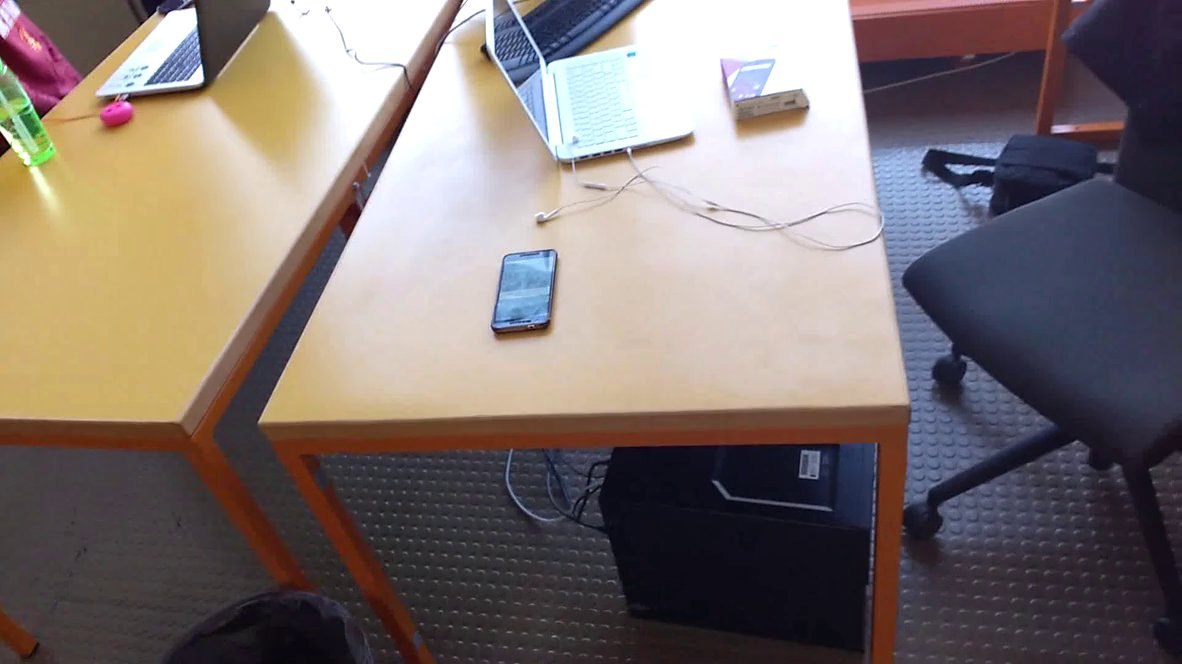laptop: (478, 1, 706, 173)
phone: (485, 245, 574, 341)
